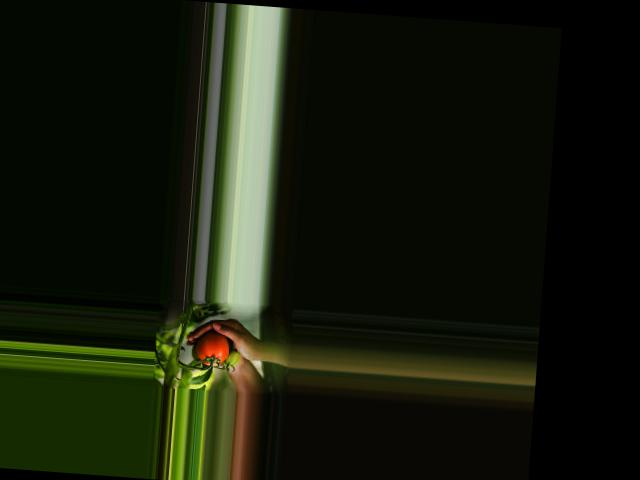tomato: (196, 330, 230, 366)
